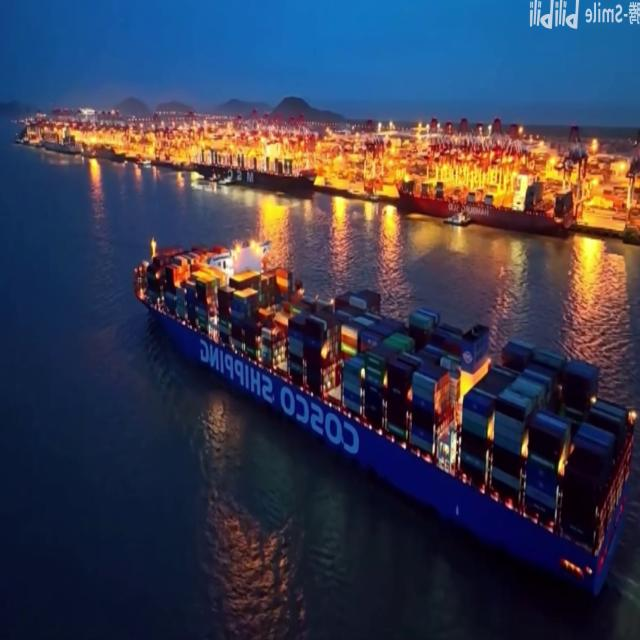cargoship: (133, 236, 640, 594)
